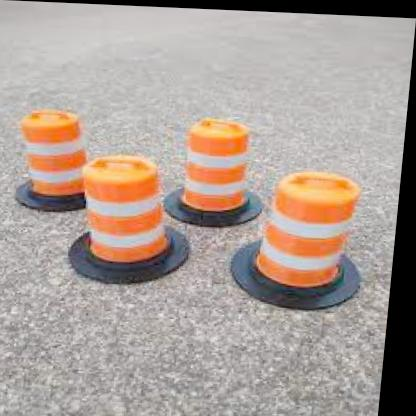obstacle: (271, 164, 364, 293), (73, 154, 179, 265), (179, 118, 266, 220), (20, 109, 95, 193)
